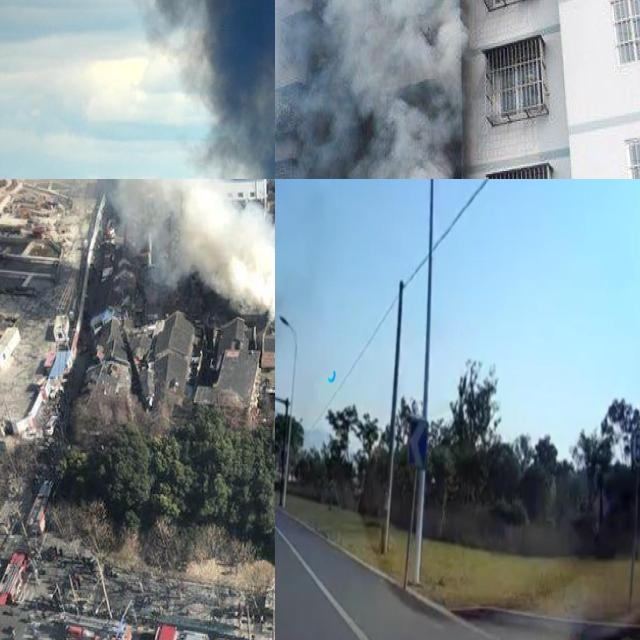smoke: (8, 179, 275, 310), (289, 0, 472, 179), (177, 0, 275, 179)
